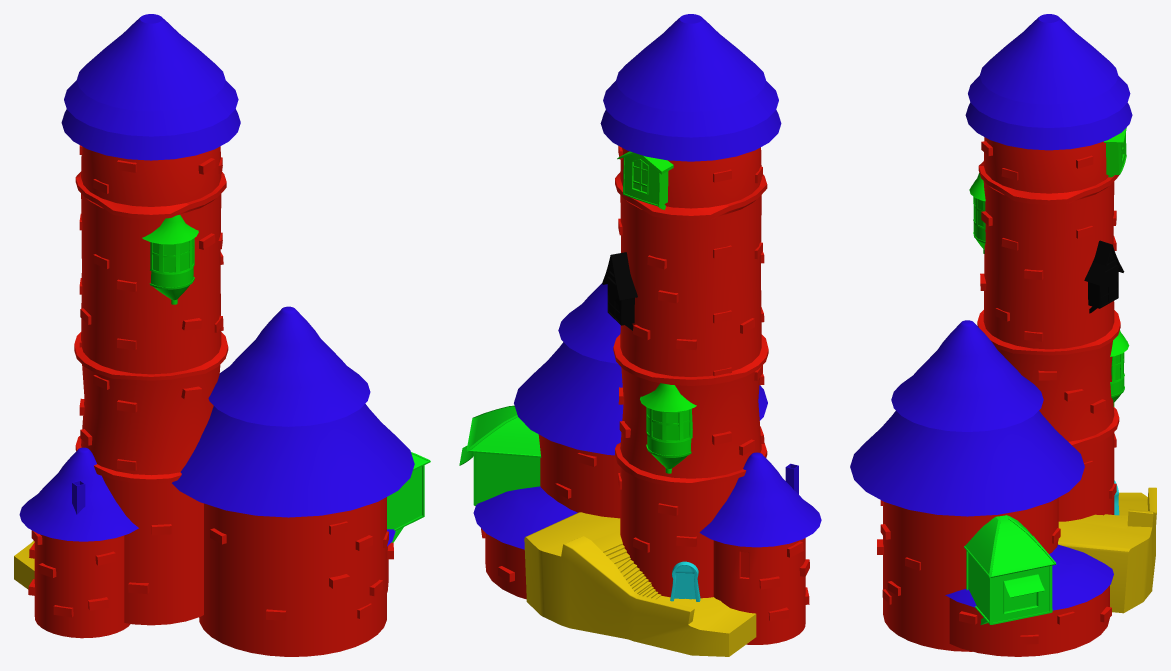
Rendered from Torre_Mago.fbx.
The picture shows the model from 3 angles, left to right: view 1: azimuth 30°, elevation 25°; view 2: azimuth 150°, elevation 25°; view 3: azimuth 270°, elevation 25°; orthographic projection. The views are drawn at different scales.
Parts seen in each view (by area): view 1: Torre, Telhado, Janela_02, Janela, Escada; view 2: Torre, Telhado, Escada, Janela, Janela_02, Janela_01, Janela_03, Porta_Principal; view 3: Torre, Telhado, Janela, Escada, Janela_03, Janela_02, Janela_01.
Boxes of the visible parts, bbox=[...] form: Torre: bbox=[28, 145, 393, 656]; Telhado: bbox=[19, 14, 414, 546]; Janela_02: bbox=[142, 214, 198, 304]; Janela: bbox=[387, 452, 430, 542]; Escada: bbox=[14, 540, 34, 589]; Torre: bbox=[481, 146, 809, 644]; Telhado: bbox=[473, 14, 821, 549]; Escada: bbox=[524, 512, 756, 656]; Janela: bbox=[459, 405, 541, 505]; Janela_02: bbox=[640, 383, 696, 473]; Janela_01: bbox=[617, 151, 673, 210]; Janela_03: bbox=[602, 252, 637, 330]; Porta_Principal: bbox=[670, 561, 700, 601]; Torre: bbox=[877, 137, 1120, 656]; Telhado: bbox=[850, 14, 1132, 610]; Janela: bbox=[964, 515, 1056, 624]; Escada: bbox=[1058, 487, 1156, 613]; Janela_03: bbox=[1084, 240, 1124, 313]; Janela_02: bbox=[969, 173, 1129, 406]; Janela_01: bbox=[1104, 128, 1126, 177].
Bounding box in the file's own units: 863 × 1320 × 666.
